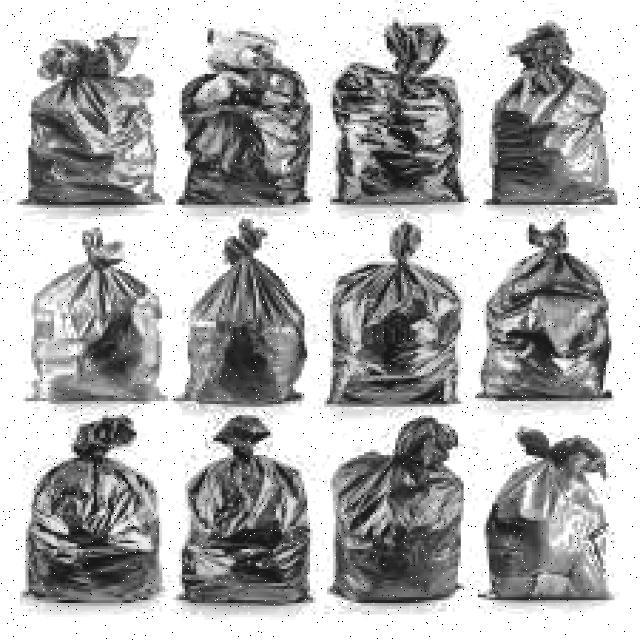Trashbag: (16, 31, 166, 221), (330, 23, 476, 213), (328, 418, 472, 610), (23, 415, 165, 604), (475, 221, 614, 412), (325, 223, 464, 412), (176, 418, 317, 604), (176, 223, 315, 410), (24, 230, 170, 405), (487, 27, 622, 211), (176, 31, 313, 211), (483, 424, 616, 609)
